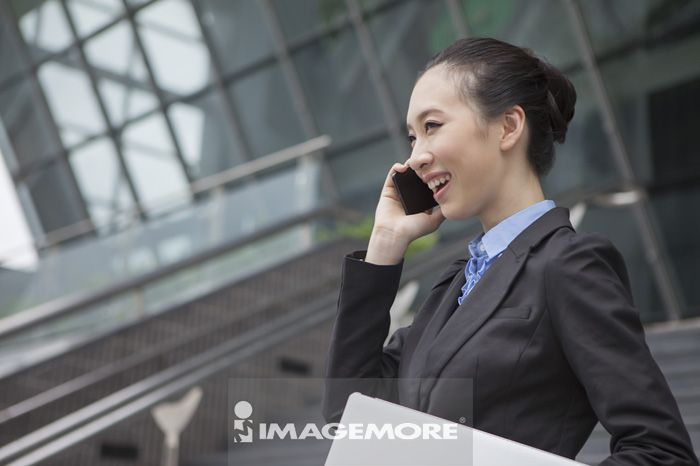phone: (392, 167, 434, 216)
talk: (372, 97, 475, 238)
